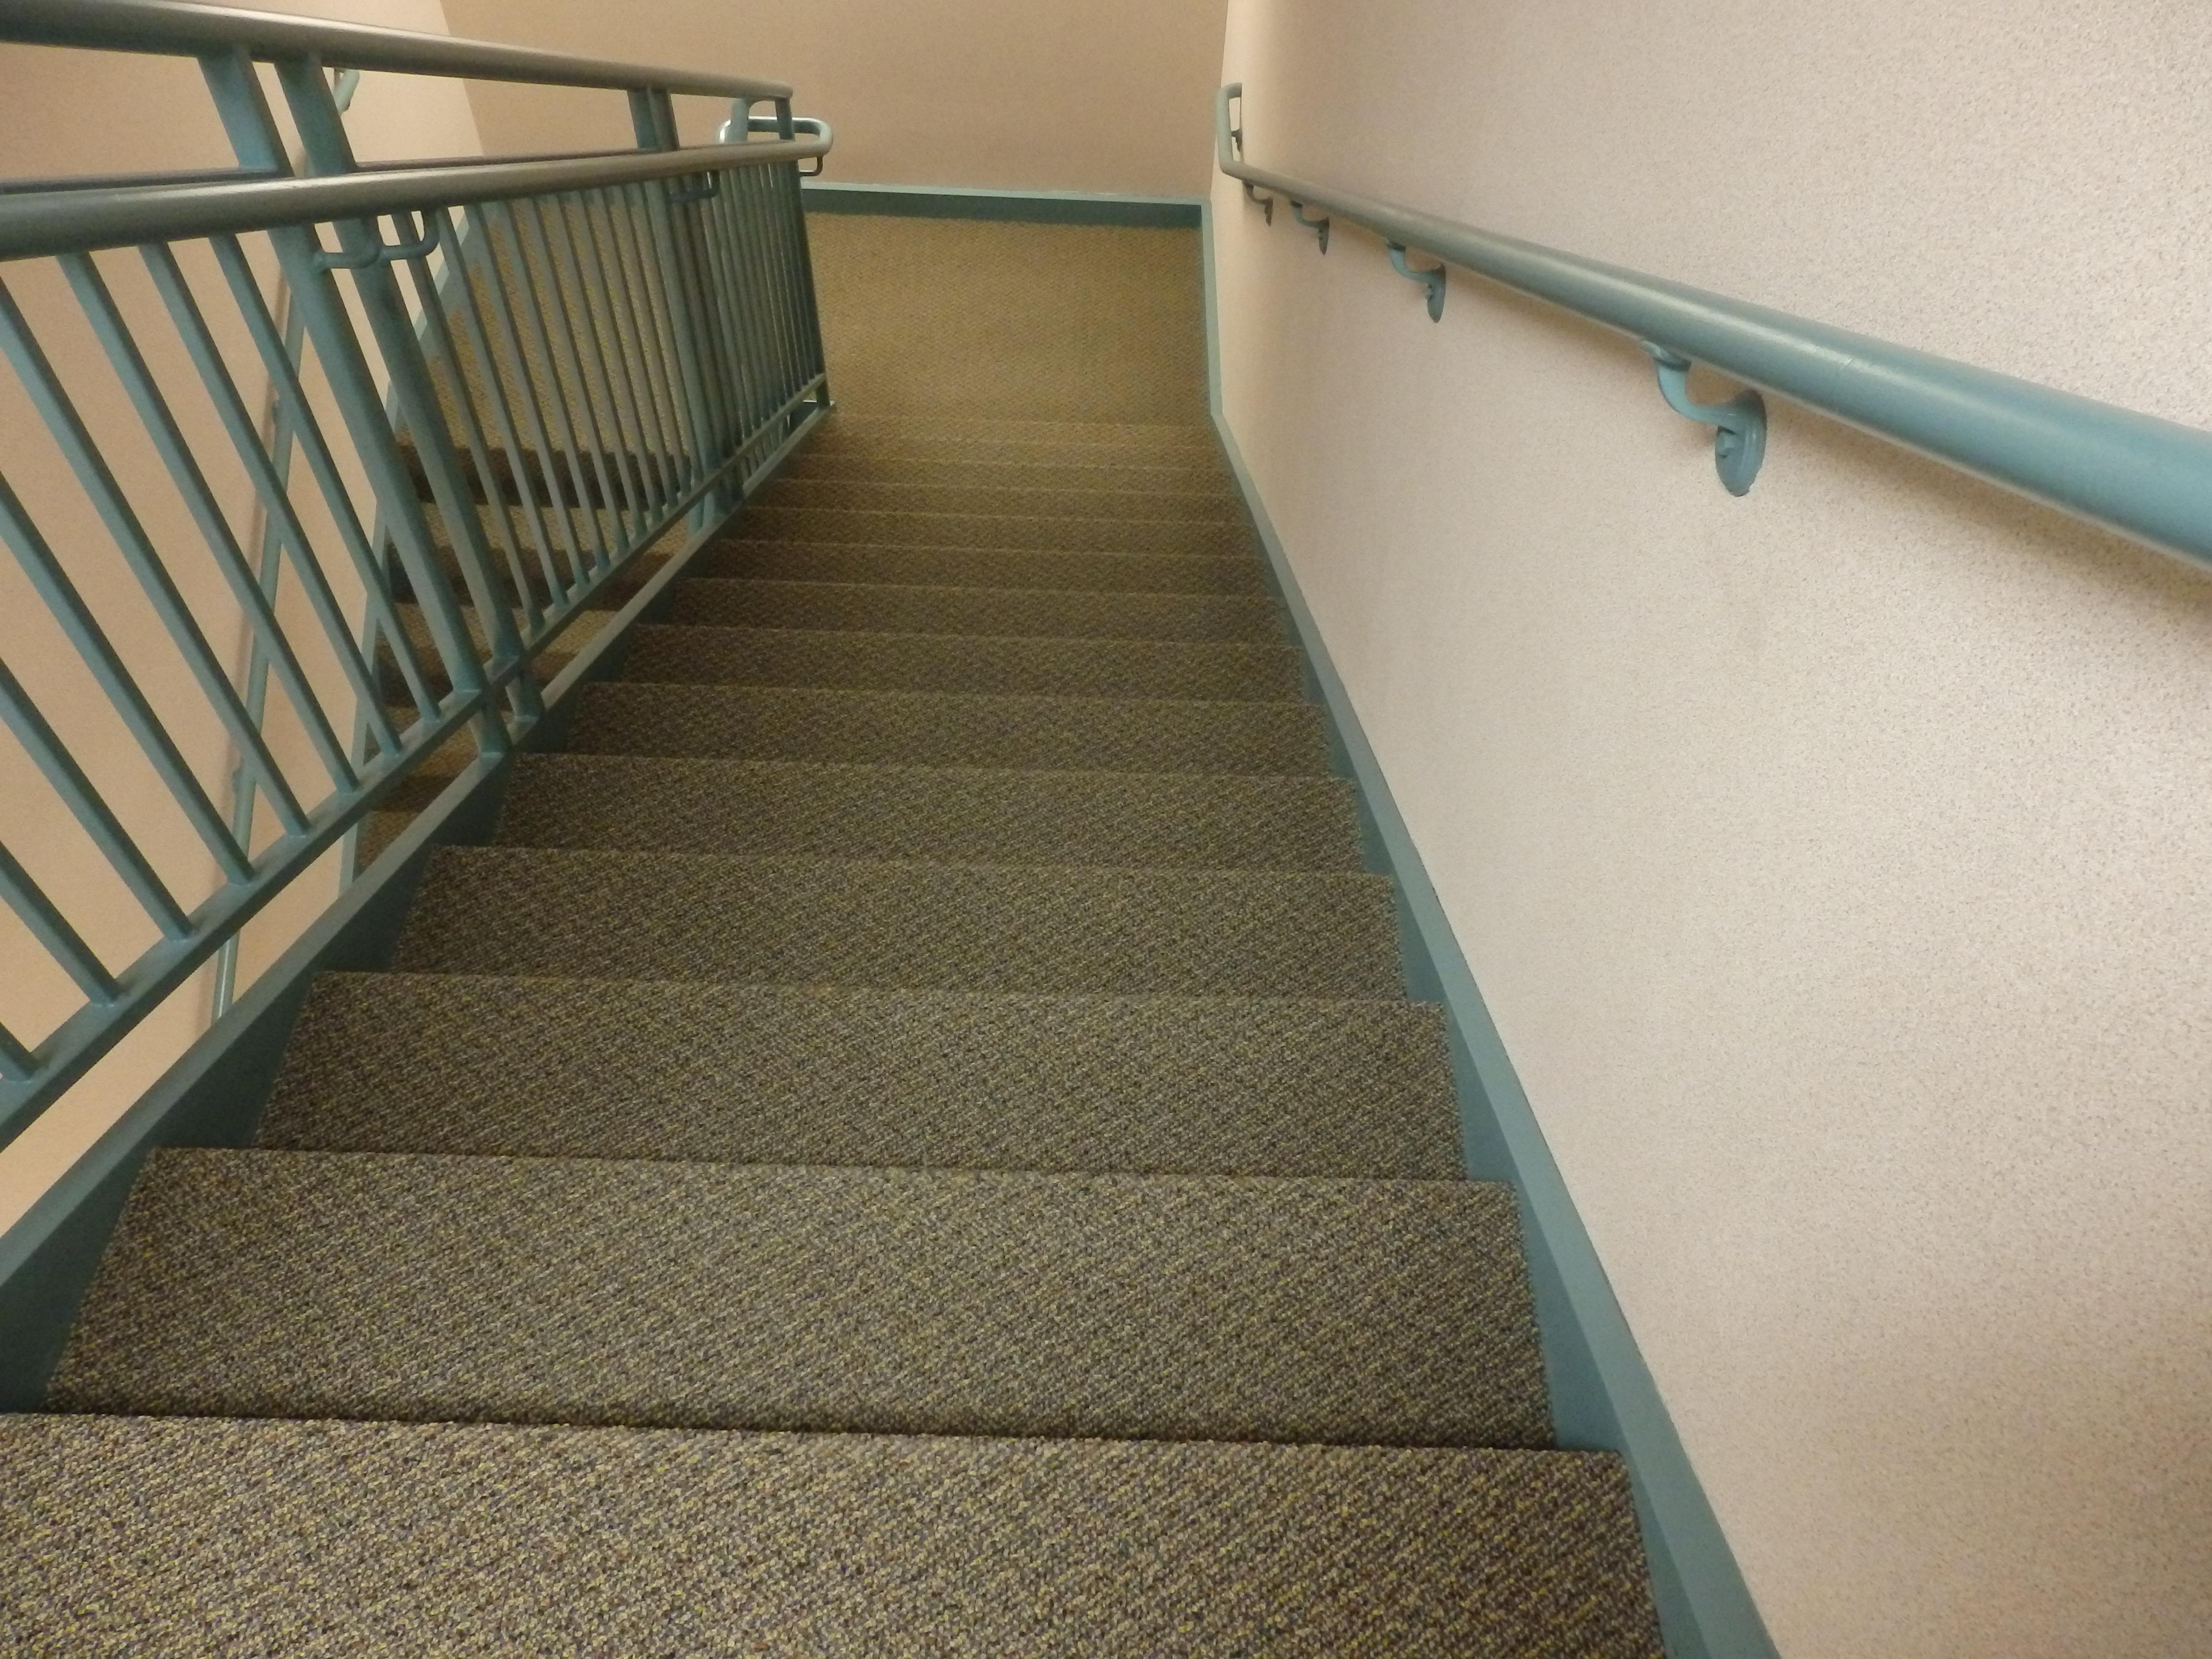stairs_down: (399, 333, 1383, 1485)
